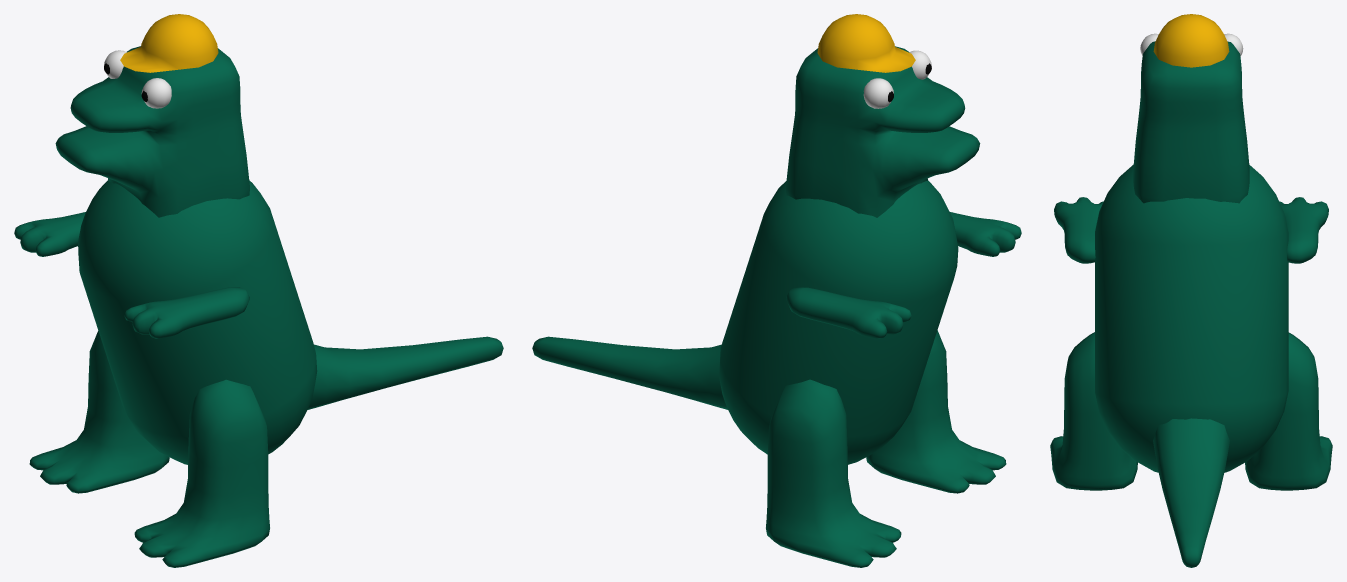
Rendered from godzilla_applied.fbx.
3 renders of one model, left to right at view 1: azimuth 30°, elevation 25°; view 2: azimuth 150°, elevation 25°; view 3: azimuth 270°, elevation 25°, orthographic. The views are drawn at different scales.
Visible parts, largest first — view 1: body, head, leg_l, leg_r, tail, hat, arm_l, arm_r, eye_l; view 2: body, head, leg_r, leg_l, tail, hat, arm_r, arm_l, eye_r; view 3: body, head, tail, leg_r, leg_l, hat, arm_r, arm_l.
Boxes of the visible parts, x1,y1,x2,y2 form: body: (78,180,317,464); head: (55,46,249,217); leg_l: (134,379,269,567); leg_r: (29,331,169,493); tail: (307,336,503,409); hat: (120,14,218,72); arm_l: (124,287,249,338); arm_r: (14,212,85,256); eye_l: (141,78,171,108); body: (719,180,958,464); head: (785,46,980,217); leg_r: (766,379,901,567); leg_l: (866,330,1006,493); tail: (532,336,727,409); hat: (817,14,915,72); arm_r: (786,287,911,338); arm_l: (950,212,1021,256); eye_r: (863,78,893,108); body: (1095,164,1288,472); head: (1133,41,1249,203); tail: (1153,418,1229,567); leg_r: (1245,332,1332,490); leg_l: (1050,332,1137,490); hat: (1153,14,1229,67); arm_r: (1279,197,1328,263); arm_l: (1054,197,1103,263).
Size of the model in its own units: 364 by 388 by 213.
